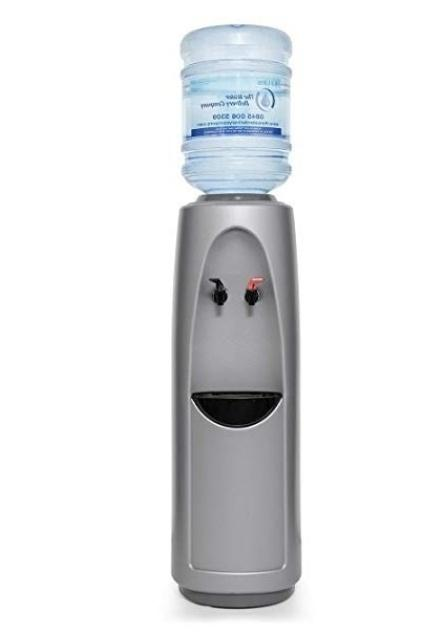Dispenser: (170, 24, 301, 608)
